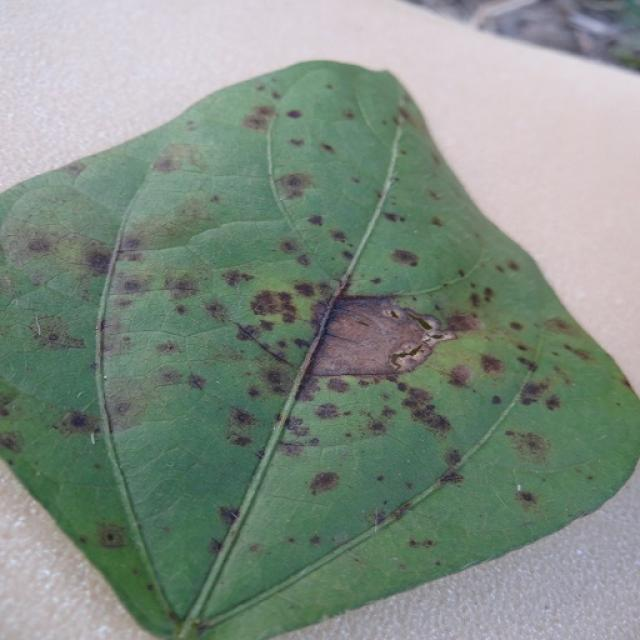Anthracnose: (324, 289, 444, 378), (508, 335, 598, 413), (122, 187, 234, 248), (98, 368, 199, 427), (226, 394, 311, 454), (397, 385, 453, 432), (25, 314, 88, 351), (246, 284, 298, 322), (150, 141, 208, 172), (504, 428, 552, 464), (224, 405, 261, 446), (274, 171, 317, 201), (56, 410, 102, 438), (163, 271, 203, 300), (518, 378, 553, 407), (241, 105, 277, 133), (95, 523, 129, 549), (380, 499, 415, 524), (308, 470, 341, 496), (444, 311, 483, 333), (83, 247, 114, 273), (219, 268, 255, 289), (448, 363, 476, 387), (0, 381, 21, 411), (541, 317, 578, 334), (561, 342, 594, 361), (263, 367, 289, 391), (478, 353, 505, 376), (24, 234, 54, 254), (202, 300, 229, 322), (389, 248, 420, 267), (405, 386, 433, 407), (0, 430, 24, 454), (157, 367, 187, 386), (117, 235, 145, 255), (514, 488, 540, 509), (292, 281, 318, 300), (152, 154, 178, 173), (314, 402, 341, 420), (218, 505, 241, 526), (325, 376, 351, 394), (443, 448, 465, 469), (121, 277, 145, 294), (278, 238, 302, 255), (439, 469, 463, 485), (187, 372, 207, 391), (112, 401, 132, 416), (382, 211, 406, 223), (208, 537, 224, 555), (155, 340, 177, 353), (368, 419, 387, 434), (407, 538, 435, 548), (168, 609, 186, 624), (469, 292, 484, 309), (306, 214, 324, 227), (246, 386, 262, 399), (286, 109, 303, 119), (288, 137, 305, 147), (506, 260, 520, 272), (174, 304, 188, 316), (430, 216, 445, 227), (320, 143, 335, 154), (508, 321, 524, 331), (309, 534, 322, 546), (342, 109, 355, 120), (248, 543, 262, 553), (369, 277, 383, 285), (491, 395, 502, 405), (210, 194, 221, 204), (376, 474, 385, 483), (146, 583, 154, 592), (434, 560, 442, 567)
Blackgram: (0, 61, 639, 639)
